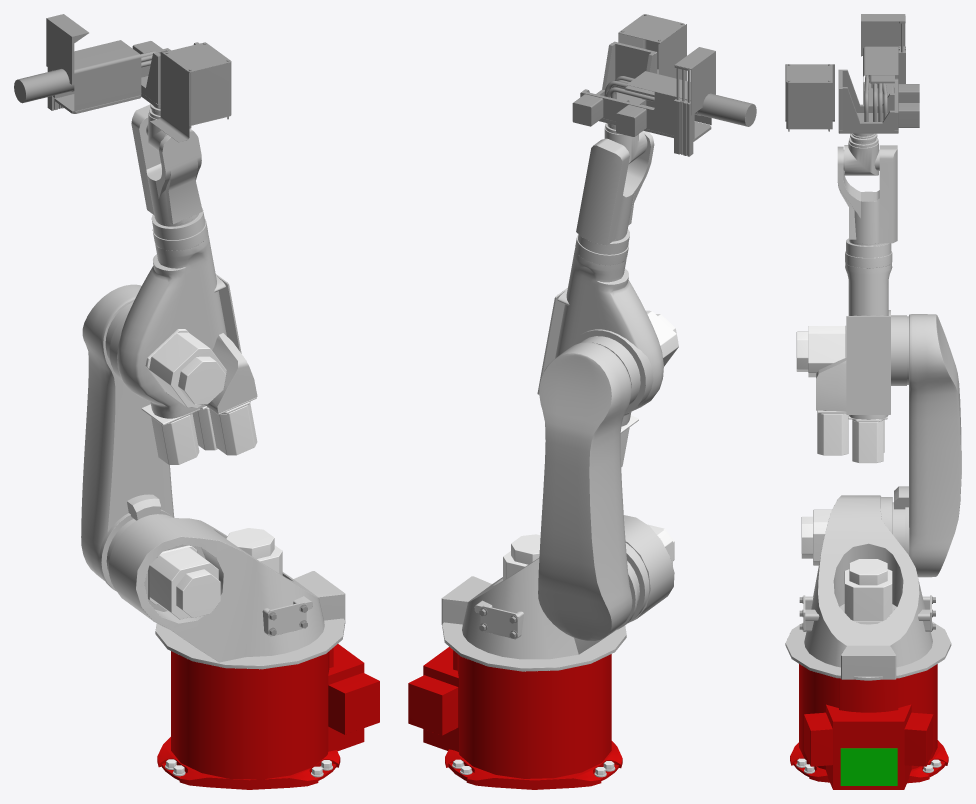
File: Arm.fbx
3 views of the same model, side by side, from view 1: azimuth 30°, elevation 25°; view 2: azimuth 150°, elevation 25°; view 3: azimuth 270°, elevation 25° (orthographic). The views are drawn at different scales.
Visible parts, largest first — view 1: Arm_1, Arm_2, Arm_4, Arm_6, Arm_3, Arm_4_metal, Arm2_metal; view 2: Arm_3, Arm_1, Arm_4, Arm_2, Arm_6, Arm2_metal, Arm_4_metal, Arm_6_code, Arm_5; view 3: Arm_2, Arm_1, Arm_4, Arm_3, Arm_6, Arm_4_metal, Arm2_metal, Arm_5, Arm_6_code, Arm_1_bolt.
Boxes of the visible parts, x1=… form: Arm_1: x1=157, y1=644, x2=379, y2=789; Arm_2: x1=106, y1=514, x2=345, y2=669; Arm_4: x1=105, y1=104, x2=257, y2=418; Arm_6: x1=14, y1=14, x2=231, y2=142; Arm_3: x1=81, y1=284, x2=174, y2=591; Arm_4_metal: x1=141, y1=329, x2=257, y2=464; Arm2_metal: x1=148, y1=528, x2=282, y2=619; Arm_3: x1=538, y1=342, x2=637, y2=641; Arm_1: x1=408, y1=647, x2=622, y2=789; Arm_4: x1=537, y1=130, x2=663, y2=426; Arm_2: x1=441, y1=515, x2=674, y2=671; Arm_6: x1=572, y1=14, x2=756, y2=156; Arm2_metal: x1=503, y1=524, x2=674, y2=580; Arm_4_metal: x1=620, y1=310, x2=678, y2=466; Arm_6_code: x1=604, y1=68, x2=690, y2=102; Arm_5: x1=604, y1=123, x2=647, y2=163; Arm_2: x1=785, y1=495, x2=951, y2=680; Arm_1: x1=790, y1=664, x2=948, y2=789; Arm_4: x1=816, y1=145, x2=906, y2=419; Arm_3: x1=894, y1=314, x2=961, y2=577; Arm_6: x1=785, y1=14, x2=919, y2=133; Arm_4_metal: x1=796, y1=326, x2=887, y2=463; Arm2_metal: x1=801, y1=509, x2=892, y2=623; Arm_5: x1=843, y1=133, x2=879, y2=175; Arm_6_code: x1=864, y1=23, x2=903, y2=121; Arm_1_bolt: x1=796, y1=758, x2=941, y2=773.
Size of the model in its own units: 130 by 295 by 70.89.
